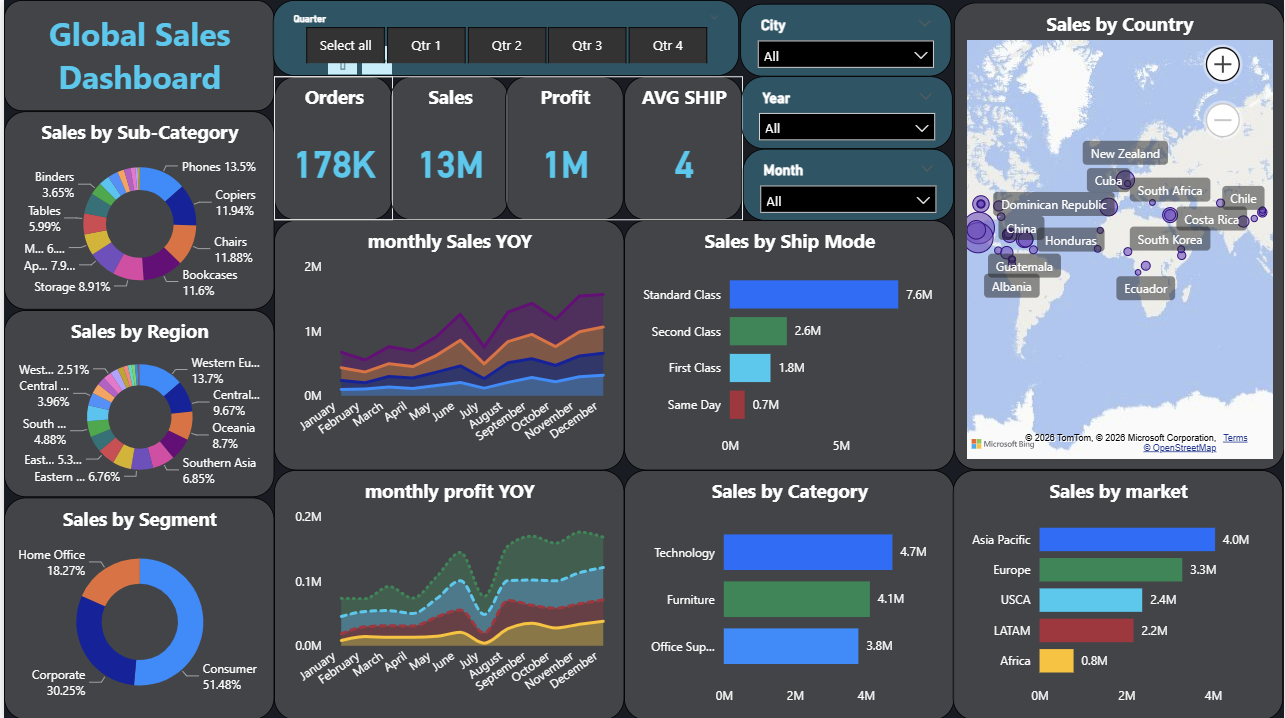

Layout of this report page (visuals, bound fields, positions):
{"tool":"powerbi","page":{"name":"Sales Dashboard","canvas":[1280,720],"ordinal":0},"visuals":[{"type":"textbox","box":[0,0,270,111.2],"z":0},{"type":"card","title":"Orders","fields":{"Values":["Sum(Orders.Quantity)"]},"box":[270,76.2,118.8,143.8],"z":0,"group":"g1"},{"type":"card","title":"Sales","fields":{"Values":["Sum(Orders.Sales)"]},"box":[386.2,76.2,118.8,143.8],"z":1000,"group":"g1"},{"type":"clusteredBarChart","title":"Sales by Ship Mode","fields":{"Category":["Orders.Ship Mode"],"Y":["Sum(Orders.Sales)"]},"box":[620,220,330,250],"z":1000},{"type":"card","title":"Profit","fields":{"Values":["Sum(Orders.Profit)"]},"box":[501.2,76.2,118.8,143.8],"z":2000,"group":"g1"},{"type":"clusteredBarChart","title":"Sales by Category","fields":{"Category":["Orders.Category"],"Y":["Sum(Orders.Sales)"]},"box":[620,470,330,250],"z":2000},{"type":"card","title":"AVG SHIP","fields":{"Values":["Avg(Orders.Delivery Days)"]},"box":[620,76.2,118.8,143.8],"z":3000,"group":"g1"},{"type":"clusteredBarChart","title":"Sales by market","fields":{"Category":["Orders.Market"],"Y":["Sum(Orders.Sales)"]},"box":[949.3,469.9,330.1,250.7],"z":3000},{"type":"map","title":"Sales by Country","fields":{"Category":["Orders.Country"],"Size":["Sum(Orders.Sales)"]},"box":[950,2.5,330,467.5],"z":4000},{"type":"stackedAreaChart","title":"monthly Sales YOY","fields":{"Y":["Sum(Orders.Sales)"],"Category":["Orders.Order Date.Variation.Date Hierarchy.Month"],"Series":["Orders.Order Date.Variation.Date Hierarchy.Year"]},"box":[270,220,350,250],"z":5000},{"type":"stackedAreaChart","title":"monthly profit YOY","fields":{"Y":["Sum(Orders.Profit)"],"Category":["Orders.Order Date.Variation.Date Hierarchy.Month"],"Series":["Orders.Order Date.Variation.Date Hierarchy.Year"]},"box":[270,470,350,250],"z":6000},{"type":"donutChart","title":"Sales by Sub-Category","fields":{"Category":["Orders.Sub-Category"],"Y":["Sum(Orders.Sales)"]},"box":[0,111.2,270,198.8],"z":7000},{"type":"donutChart","title":"Sales by Region","fields":{"Category":["Orders.Region"],"Y":["Sum(Orders.Sales)"]},"box":[0,310,270,187.5],"z":8000},{"type":"donutChart","title":"Sales by Segment","fields":{"Category":["Orders.Segment"],"Y":["Sum(Orders.Sales)"]},"box":[0,497.5,270,222.5],"z":9000},{"type":"group","id":"g1","title":"Group 1","box":[270,76.2,468.8,143.8],"z":10000},{"type":"slicer","fields":{"Values":["Orders.City"]},"box":[736.2,3.8,211.2,72.5],"z":11000},{"type":"slicer","fields":{"Values":["Orders.Order Date.Variation.Date Hierarchy.Year"]},"box":[737.5,76.2,211,72.5],"z":12000},{"type":"slicer","fields":{"Values":["Orders.City","Orders.Order Date.Variation.Date Hierarchy.Month"]},"box":[738.8,148.8,211,72],"z":13000},{"type":"slicer","fields":{"Values":["Orders.Order Date.Variation.Date Hierarchy.Quarter"]},"box":[268.8,0,466.2,76.2],"z":14000}]}

Visuals, with their boxes in screenshot pixels (x1, y1, x2, y2), scaled from the page's 1280x720 canvas onto the 1285x718 screenshot:
textbox: <bbox>0, 0, 271, 111</bbox>
"Orders" card: <bbox>271, 76, 390, 219</bbox>
"Sales" card: <bbox>388, 76, 507, 219</bbox>
"Sales by Ship Mode" clusteredBarChart: <bbox>622, 219, 954, 469</bbox>
"Profit" card: <bbox>503, 76, 622, 219</bbox>
"Sales by Category" clusteredBarChart: <bbox>622, 469, 954, 717</bbox>
"AVG SHIP" card: <bbox>622, 76, 742, 219</bbox>
"Sales by market" clusteredBarChart: <bbox>953, 469, 1284, 717</bbox>
"Sales by Country" map: <bbox>954, 2, 1284, 469</bbox>
"monthly Sales YOY" stackedAreaChart: <bbox>271, 219, 622, 469</bbox>
"monthly profit YOY" stackedAreaChart: <bbox>271, 469, 622, 717</bbox>
"Sales by Sub-Category" donutChart: <bbox>0, 111, 271, 309</bbox>
"Sales by Region" donutChart: <bbox>0, 309, 271, 496</bbox>
"Sales by Segment" donutChart: <bbox>0, 496, 271, 717</bbox>
"Group 1" group: <bbox>271, 76, 742, 219</bbox>
slicer - Orders.City: <bbox>739, 4, 951, 76</bbox>
slicer - Orders.Order Date.Variation.Date Hierarchy.Year: <bbox>740, 76, 952, 148</bbox>
slicer - Orders.City x Orders.Order Date.Variation.Date Hierarchy.Month: <bbox>742, 148, 954, 220</bbox>
slicer - Orders.Order Date.Variation.Date Hierarchy.Quarter: <bbox>270, 0, 738, 76</bbox>
